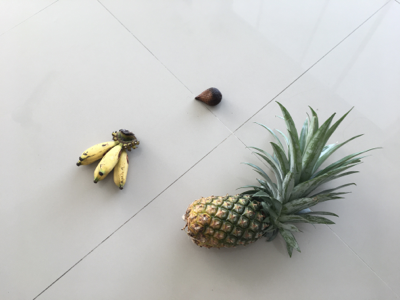banana: (75, 130, 141, 191)
pineapple: (183, 103, 375, 258)
snake fruit: (195, 88, 223, 107)
